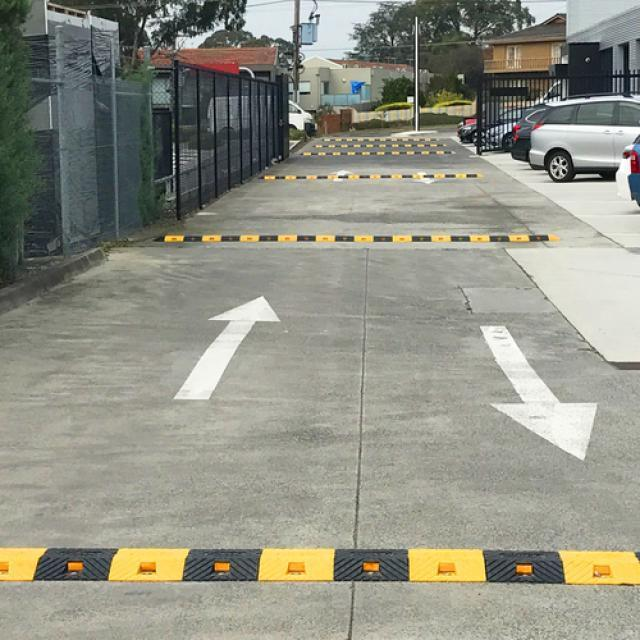speedbreaker: (2, 542, 640, 590), (147, 232, 557, 245), (255, 170, 485, 180), (296, 150, 458, 156), (311, 144, 449, 148), (322, 138, 437, 140)
